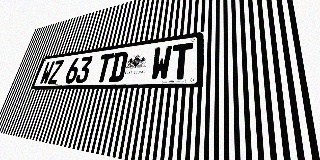3: (74, 56, 93, 83)
6: (64, 57, 82, 84)
D: (108, 51, 129, 82)
T: (170, 42, 193, 80), (95, 53, 114, 83)
W: (150, 45, 172, 81), (39, 61, 55, 85)
Z: (47, 60, 64, 84)
